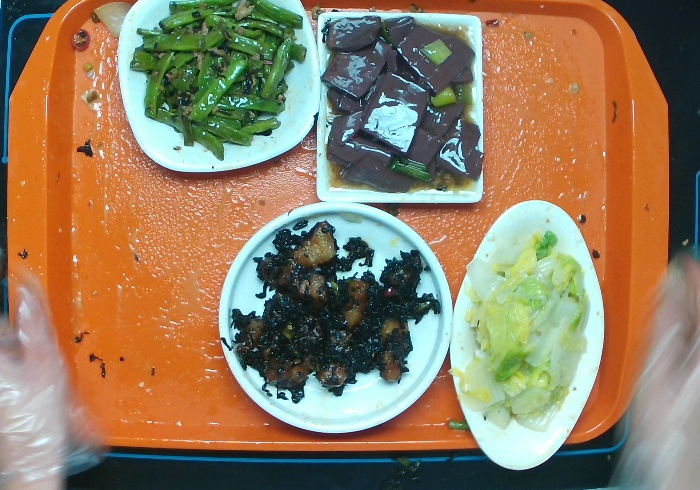HZYJPL-Si_Fang_Die: (300, 1, 500, 217)
HZYJPL-Si_Fang_Yuan_Die: (111, 1, 324, 182)
HZYJPL-Xiao_Yu_Die: (447, 193, 607, 476)
HZYJPL-Xiao_Yuan_Die: (217, 196, 455, 441)
